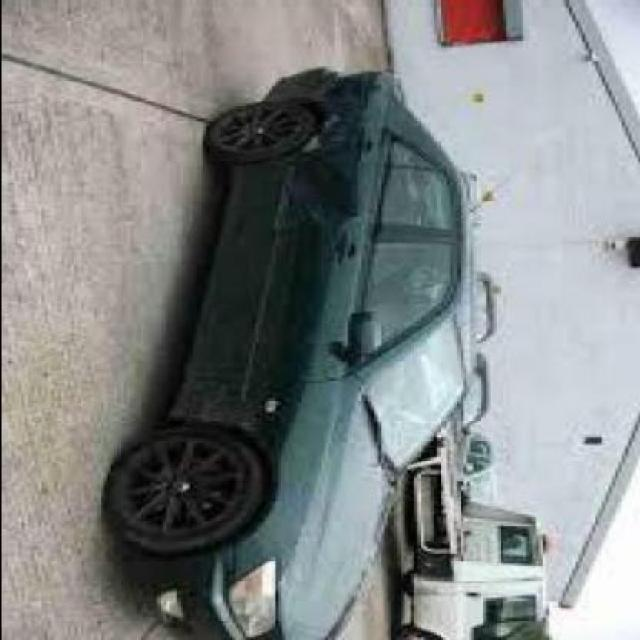damage: (282, 102, 361, 233), (181, 374, 262, 428)
